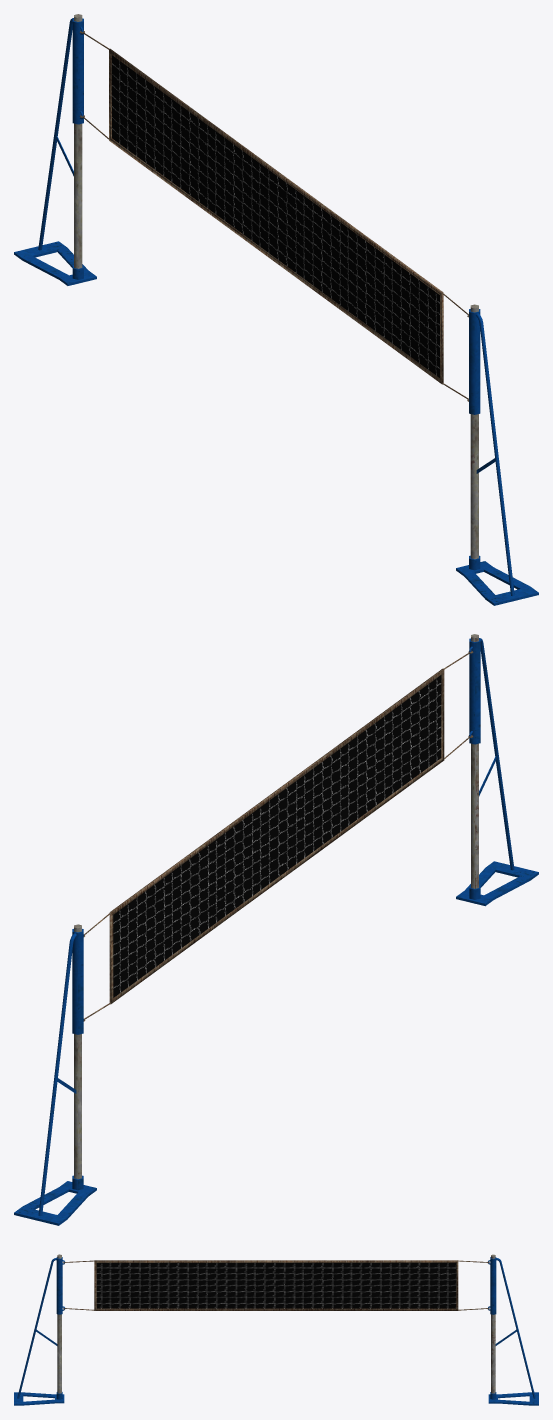
File: _Volleyball_Full.FBX
3 renders of one model, top to bottom at view 1: azimuth 30°, elevation 25°; view 2: azimuth 150°, elevation 25°; view 3: azimuth 270°, elevation 25°, orthographic. The views are drawn at different scales.
Parts seen in each view (by area): view 1: _Volleyball_Full; view 2: _Volleyball_Full; view 3: _Volleyball_Full.
Boxes of the visible parts, x1,y1,x2,y2 form: _Volleyball_Full: (14, 14, 538, 605); _Volleyball_Full: (14, 634, 538, 1225); _Volleyball_Full: (14, 1254, 538, 1405).
Bounding box in the file's own units: 30.55 × 172 × 567.
4 materials, 4 textured.
